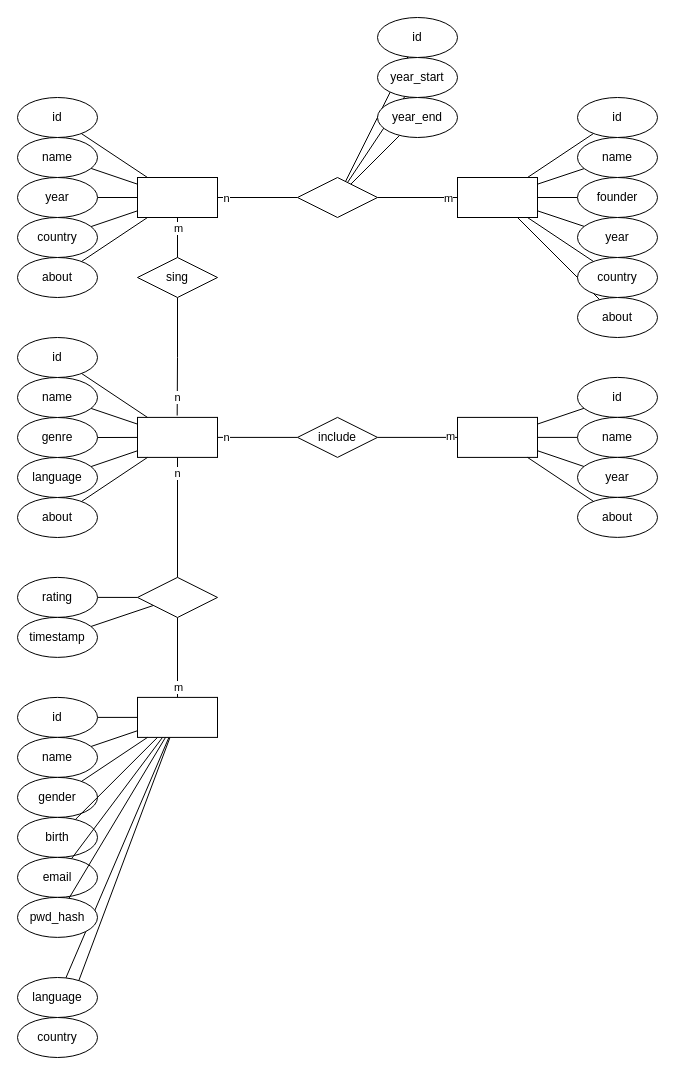
The diagram is 675 pixels wide and 1075 high, and some of its shapes have lost their labels. Each missing label, with the box of its shape:
album: (456, 416, 538, 457)
band: (136, 176, 218, 218)
cooperate: (296, 176, 378, 218)
label: (456, 176, 538, 218)
listener: (136, 696, 218, 737)
rate: (136, 576, 218, 618)
song: (136, 416, 218, 457)
